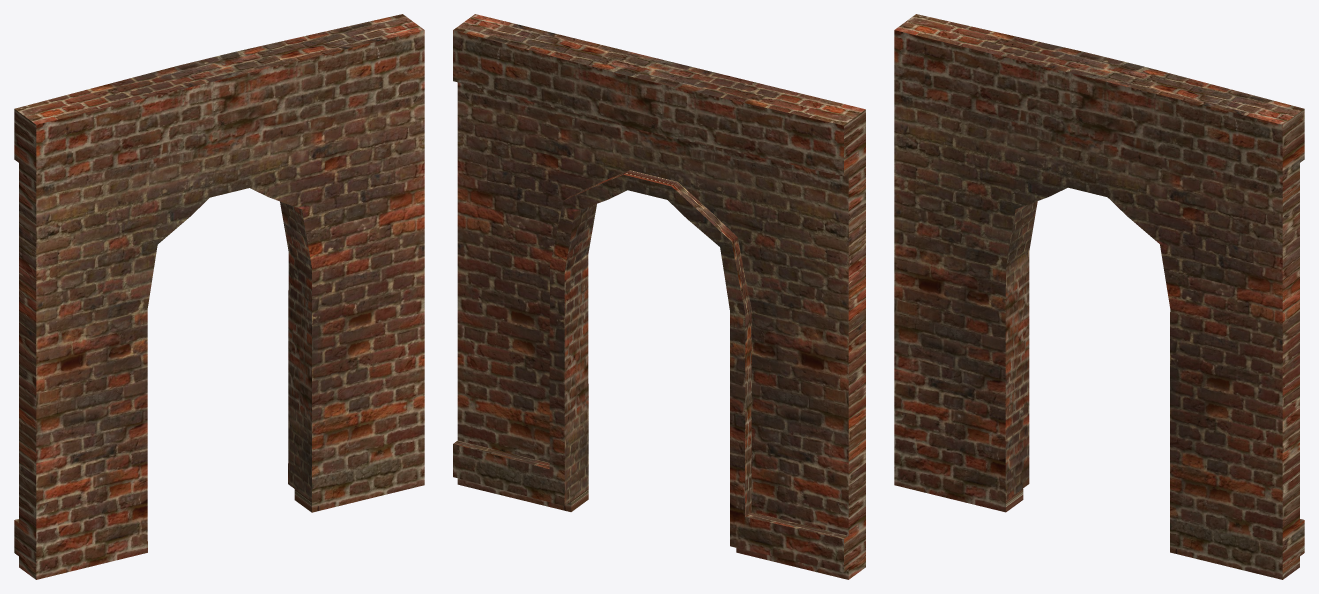
The model's file is Porta.fbx.
3 renders of one model, left to right at view 1: azimuth 30°, elevation 25°; view 2: azimuth 150°, elevation 25°; view 3: azimuth 330°, elevation 25°, orthographic.
Visible parts, largest first — view 1: Pared.001; view 2: Pared.001; view 3: Pared.001.
Boxes of the visible parts, left/top/right/bottom form: Pared.001: left=14, top=14, right=424, bottom=579; Pared.001: left=453, top=14, right=865, bottom=579; Pared.001: left=894, top=14, right=1304, bottom=579.
Size of the model in its own units: 2602 by 2914 by 291.
